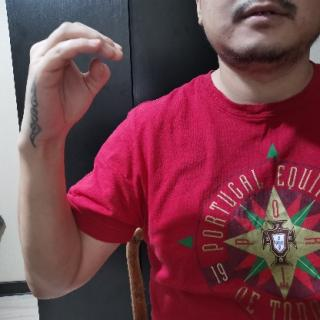JEEM: (17, 12, 131, 143)
